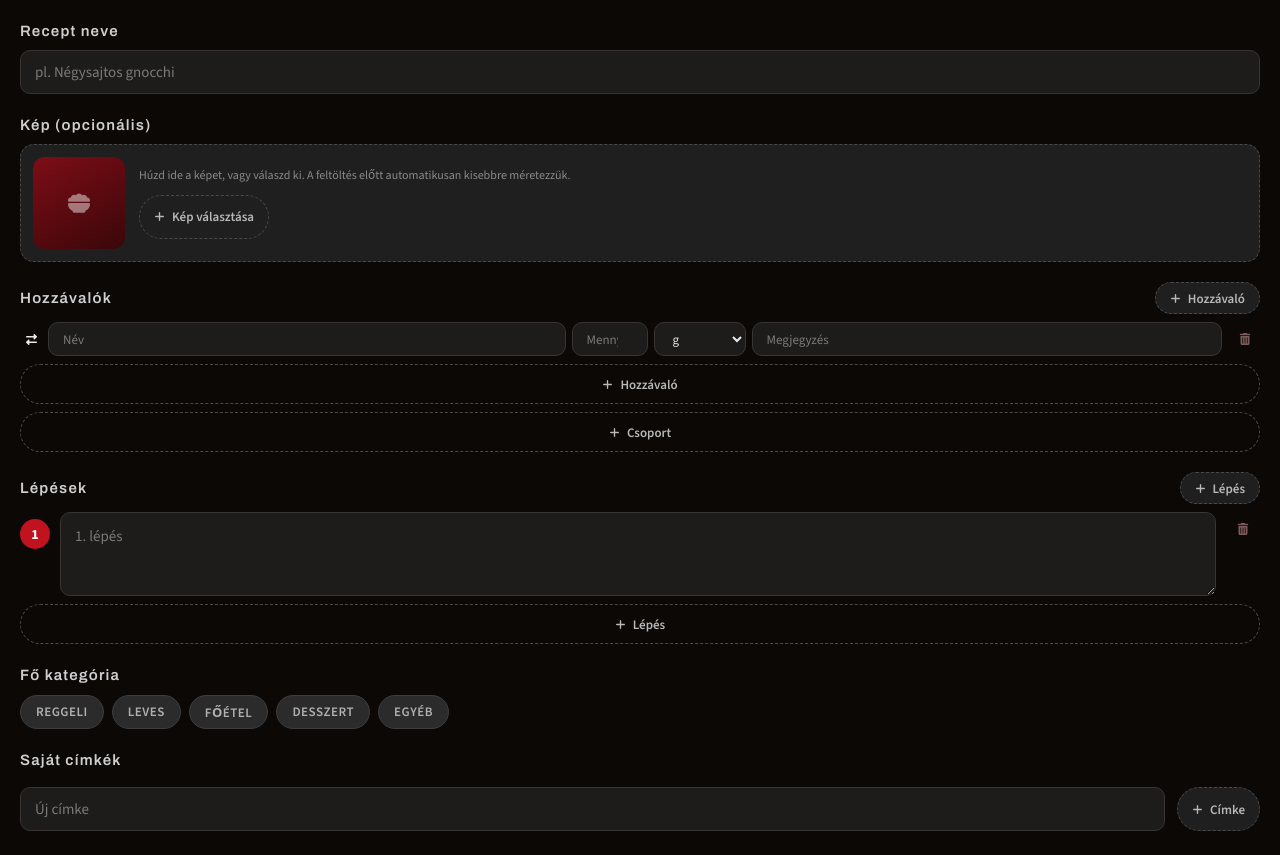
NewRecipeForm ingredient groups › adds a row to the group whose own button was pressed
The width and height of the screenshot is (1280, 855).
Step 1. Click the button "Csoport" → {"x": 640, "y": 432}, box [20, 412, 1260, 452]
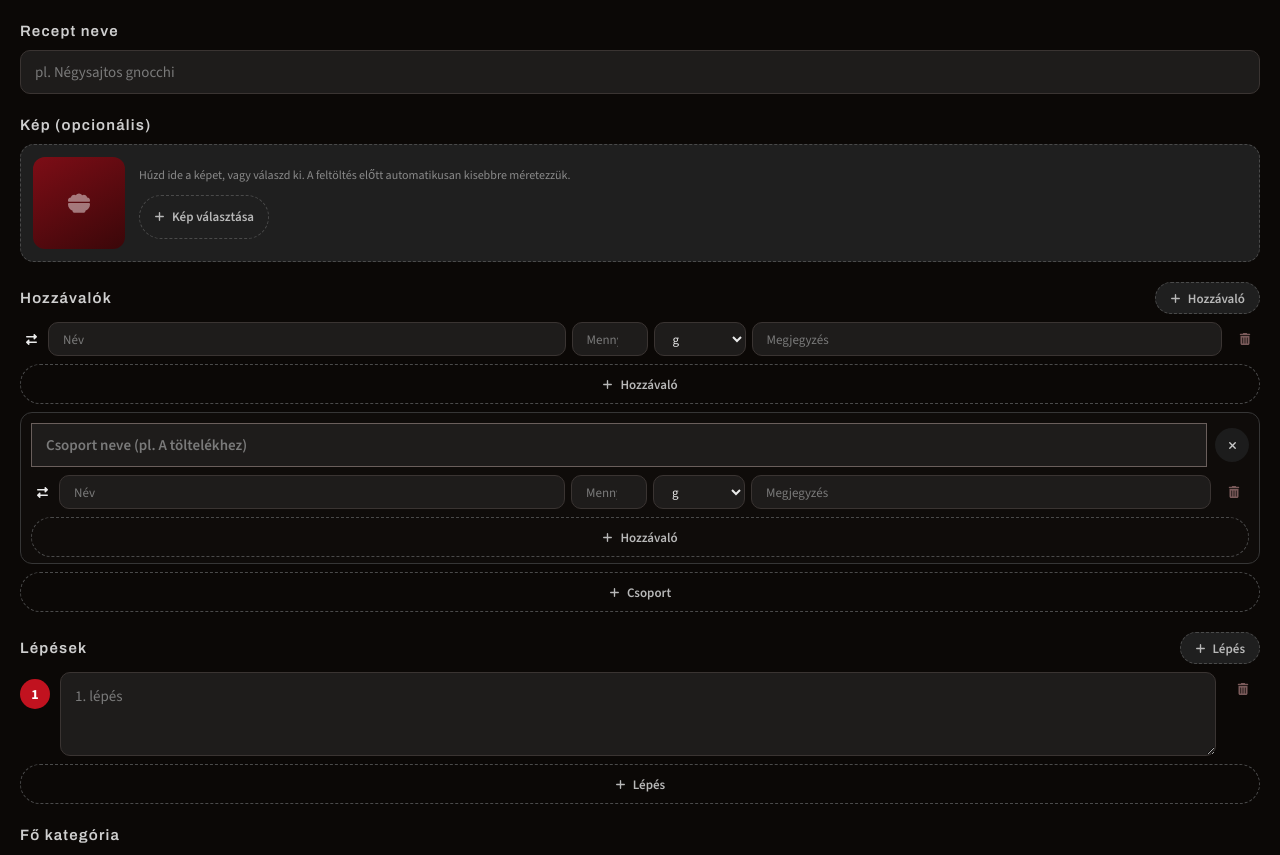
Step 2. Click the 2nd button "Hozzávaló" → {"x": 640, "y": 384}, box [20, 364, 1260, 404]
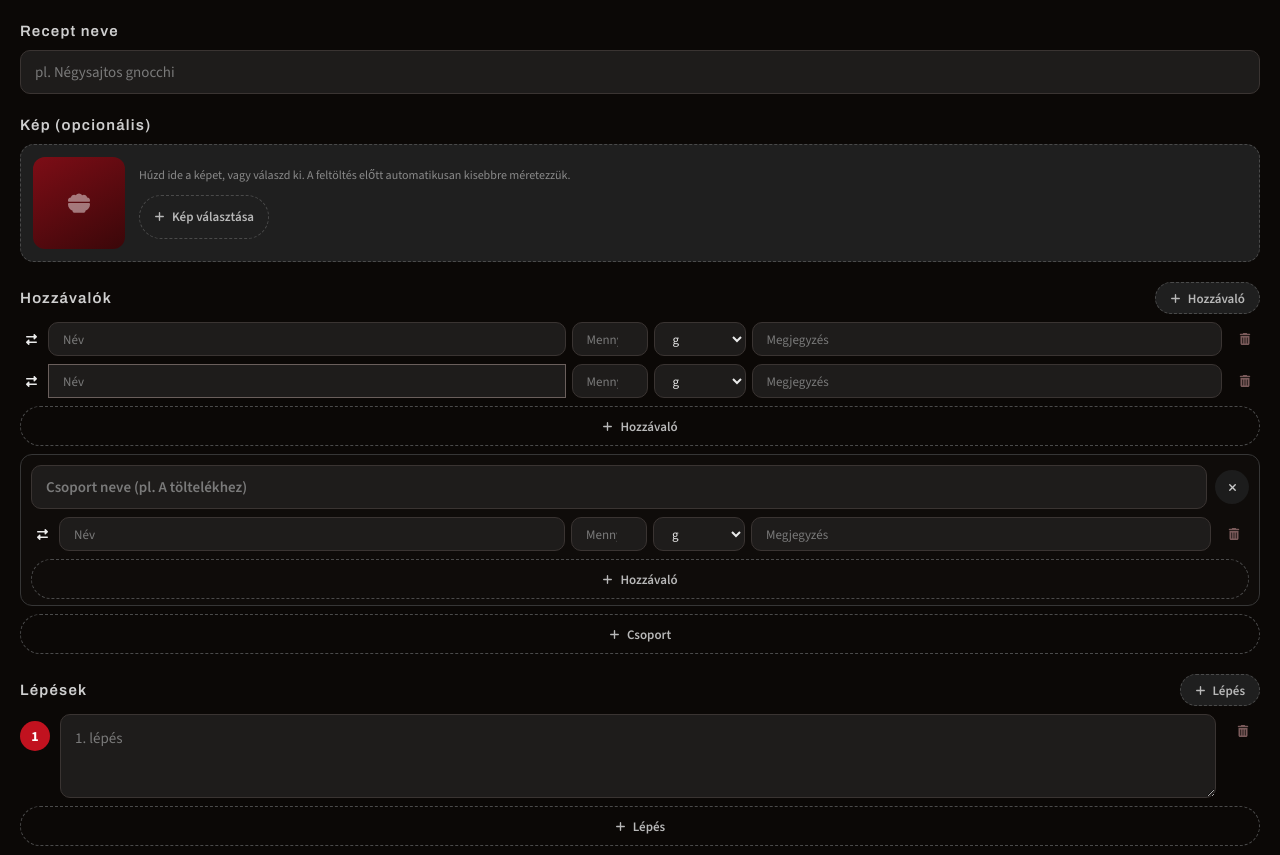
Check: the number of fields with placeholder "Név" is 3, box [48, 322, 566, 356]; [48, 364, 566, 398]; [59, 517, 565, 551]
